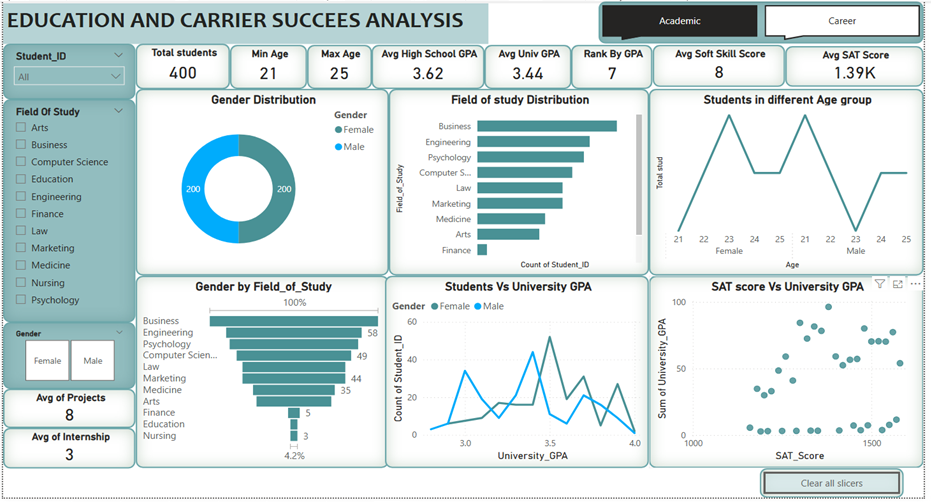

This screenshot's page, from the dashboard's own definition file:
{"tool":"powerbi","page":{"name":"Academic","canvas":[1280,720],"ordinal":4},"visuals":[{"type":"textbox","box":[0,2.7,674.8,58.5],"z":0},{"type":"card","title":"Total students","fields":{"Values":["education_career_success.Total stud"]},"box":[184.4,61.2,131.2,65.6],"z":1000},{"type":"funnel","title":"Gender by Field_of_Study","fields":{"Category":["education_career_success.Field_of_Study","education_career_success.Student_ID"],"Y":["CountNonNull(education_career_success.Gender)"]},"box":[184.4,398.1,352,279.3],"z":2000},{"type":"lineChart","title":"Students in different Age group","fields":{"Y":["Measure.Total stud"],"Category":["education_career_success.Gender","education_career_success.Age"]},"box":[898.2,126.8,382.2,271.3],"z":3000},{"type":"donutChart","title":"Gender Distribution","fields":{"Category":["education_career_success.Gender"],"Y":["Measure.Total stud"]},"box":[184.4,126.8,352,271.3],"z":4000},{"type":"barChart","title":"Field of study Distribution","fields":{"Y":["CountNonNull(education_career_success.Student_ID)"],"Category":["education_career_success.Field_of_Study"]},"box":[536.5,126.8,361.8,271.3],"z":5000},{"type":"slicer","fields":{"Values":["education_career_success.Field_of_Study"]},"box":[0,141.9,184.4,323.6],"z":6000},{"type":"slicer","fields":{"Values":["education_career_success.Student_ID"]},"box":[0,61.2,184.4,80.7],"z":7000},{"type":"slicer","fields":{"Values":["education_career_success.Gender"]},"box":[0,465.5,184.4,96.7],"z":8000},{"type":"pageNavigator","box":[828.2,0,452.2,61.2],"z":9000},{"type":"card","title":"Min Age","fields":{"Values":["education_career_success.min age"]},"box":[315.7,63,107.3,63.8],"z":10000},{"type":"card","title":"Max Age","fields":{"Values":["education_career_success.Max age"]},"box":[423,63,89.6,63.8],"z":11000},{"type":"actionButton","box":[1052.5,677.4,200.4,42.6],"z":12000},{"type":"lineChart","title":"Students Vs University GPA","fields":{"Category":["education_career_success.University_GPA"],"Y":["CountNonNull(education_career_success.Student_ID)"],"Series":["education_career_success.Gender"]},"box":[531.1,398.1,367.1,279.3],"z":13000},{"type":"card","title":"Avg Univ GPA","fields":{"Values":["education_career_success.avg univ GPA"]},"box":[669.5,63,120.6,63.8],"z":14000},{"type":"card","title":"Avg High School GPA","fields":{"Values":["education_career_success.avg High school GPA"]},"box":[512.5,63,156.9,63.8],"z":15000},{"type":"card","title":"Rank By GPA","fields":{"Values":["Measure.Rank by GPA"]},"box":[790,63,113.5,63.8],"z":16000},{"type":"scatterChart","title":"SAT score Vs University GPA","fields":{"Y":["Sum(education_career_success.University_GPA)"],"X":["education_career_success.SAT_Score"]},"box":[898.2,398.1,382.2,279.3],"z":17000},{"type":"card","title":"Avg SAT Score","fields":{"Values":["Measure.Avg SAT score"]},"box":[1088,64.7,192.4,59.4],"z":18000},{"type":"card","title":"Avg of Internship","fields":{"Values":["Measure.Avg of internship"]},"box":[0,618.9,184.4,58.5],"z":19000},{"type":"card","title":"Avg of Projects","fields":{"Values":["Measure.Avg of Projects"]},"box":[0,562.2,184.4,56.7],"z":20000},{"type":"card","title":"Avg Soft Skill Score","fields":{"Values":["Measure.Avg soft skill score"]},"box":[903.5,63,184.4,61.2],"z":21000}]}

Visuals, with their boxes on the page's 1280x720 design canvas (x1, y1, x2, y2). These are canvas units, not pixel positions in the 931x502 screenshot, which may show the page scaled, cropped or inside an application window:
textbox: {"left": 0, "top": 3, "right": 675, "bottom": 61}
"Total students" card: {"left": 184, "top": 61, "right": 316, "bottom": 127}
"Gender by Field_of_Study" funnel: {"left": 184, "top": 398, "right": 536, "bottom": 677}
"Students in different Age group" lineChart: {"left": 898, "top": 127, "right": 1280, "bottom": 398}
"Gender Distribution" donutChart: {"left": 184, "top": 127, "right": 536, "bottom": 398}
"Field of study Distribution" barChart: {"left": 536, "top": 127, "right": 898, "bottom": 398}
slicer - education_career_success.Field_of_Study: {"left": 0, "top": 142, "right": 184, "bottom": 466}
slicer - education_career_success.Student_ID: {"left": 0, "top": 61, "right": 184, "bottom": 142}
slicer - education_career_success.Gender: {"left": 0, "top": 466, "right": 184, "bottom": 562}
pageNavigator: {"left": 828, "top": 0, "right": 1280, "bottom": 61}
"Min Age" card: {"left": 316, "top": 63, "right": 423, "bottom": 127}
"Max Age" card: {"left": 423, "top": 63, "right": 513, "bottom": 127}
actionButton: {"left": 1052, "top": 677, "right": 1253, "bottom": 720}
"Students Vs University GPA" lineChart: {"left": 531, "top": 398, "right": 898, "bottom": 677}
"Avg Univ GPA" card: {"left": 670, "top": 63, "right": 790, "bottom": 127}
"Avg High School GPA" card: {"left": 512, "top": 63, "right": 669, "bottom": 127}
"Rank By GPA" card: {"left": 790, "top": 63, "right": 904, "bottom": 127}
"SAT score Vs University GPA" scatterChart: {"left": 898, "top": 398, "right": 1280, "bottom": 677}
"Avg SAT Score" card: {"left": 1088, "top": 65, "right": 1280, "bottom": 124}
"Avg of Internship" card: {"left": 0, "top": 619, "right": 184, "bottom": 677}
"Avg of Projects" card: {"left": 0, "top": 562, "right": 184, "bottom": 619}
"Avg Soft Skill Score" card: {"left": 904, "top": 63, "right": 1088, "bottom": 124}
